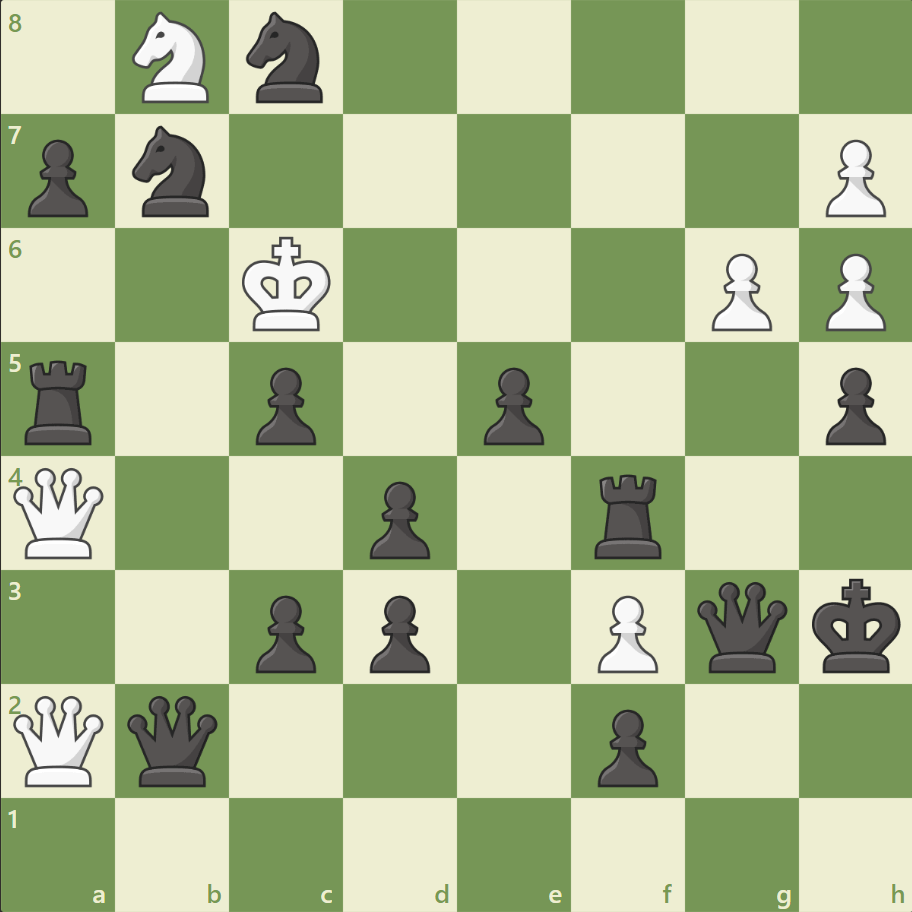K: (238, 231, 338, 339)
N: (124, 7, 222, 110)
P: (701, 246, 776, 337), (815, 132, 889, 223), (815, 246, 889, 337), (588, 586, 662, 677)
Q: (10, 463, 109, 562), (10, 690, 109, 789)
k: (806, 571, 906, 679)
n: (124, 121, 222, 223), (238, 7, 335, 110)
p: (20, 132, 95, 223), (247, 359, 322, 450), (474, 359, 549, 450), (247, 586, 322, 677), (815, 359, 889, 450), (361, 473, 435, 564), (361, 586, 435, 677), (588, 700, 662, 791)
q: (691, 576, 790, 676), (124, 690, 223, 789)
r: (19, 352, 102, 449), (587, 466, 670, 563)
